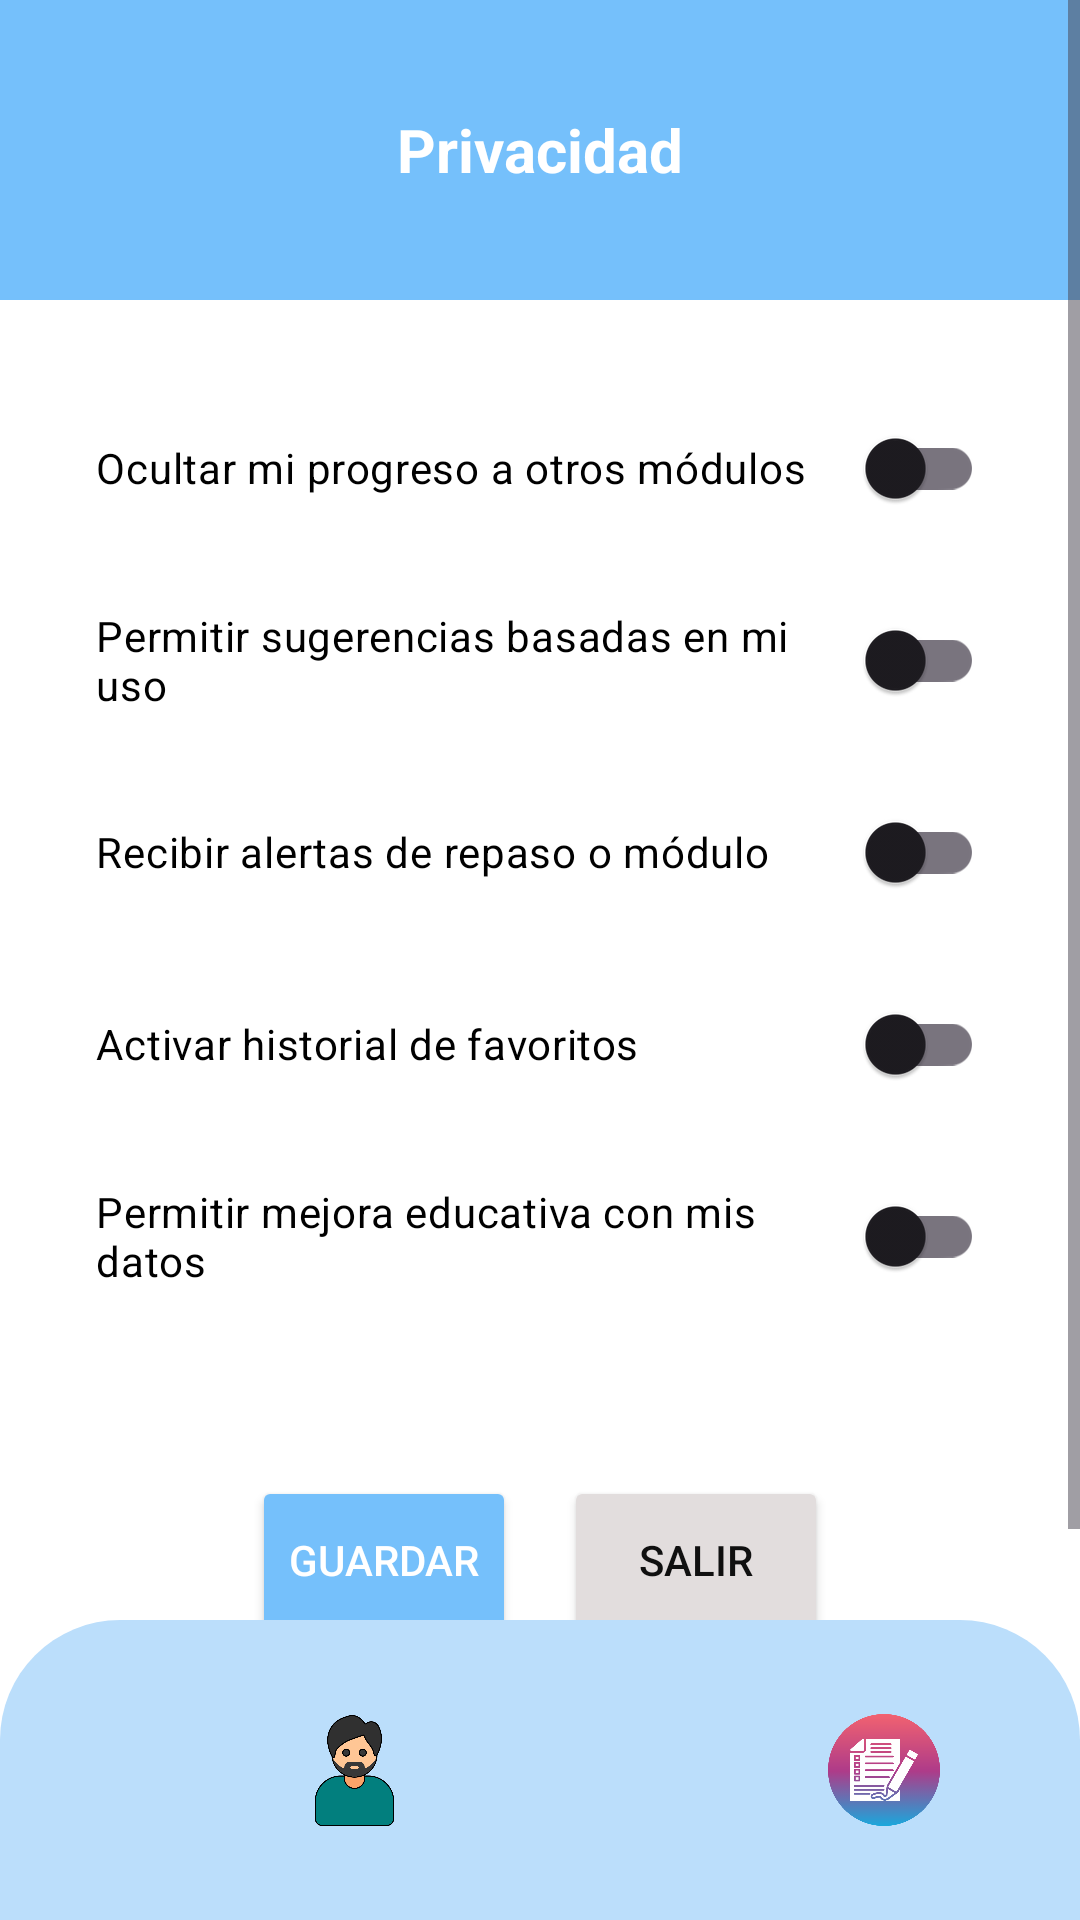

Locate icon controls on the screen. Image size 1080w x 1920h, boxes as (x1,y1,x2,y2).
Perfil: (315,1715,394,1826)
